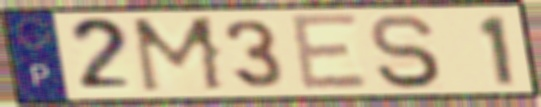1: (476, 12, 517, 88)
2: (65, 15, 145, 97)
3: (222, 18, 288, 90)
E: (286, 12, 372, 94)
M: (128, 14, 230, 96)
S: (367, 12, 445, 91)
